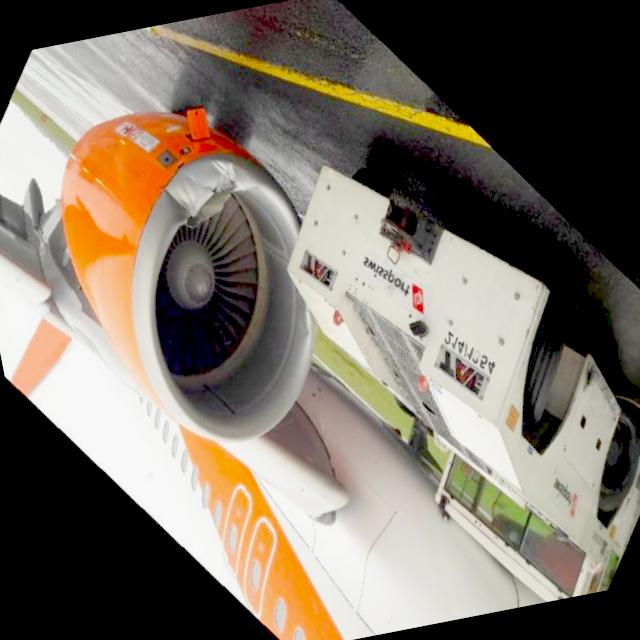crack: (178, 175, 246, 228)
dent: (160, 156, 244, 196), (285, 296, 322, 348), (163, 192, 192, 221)
